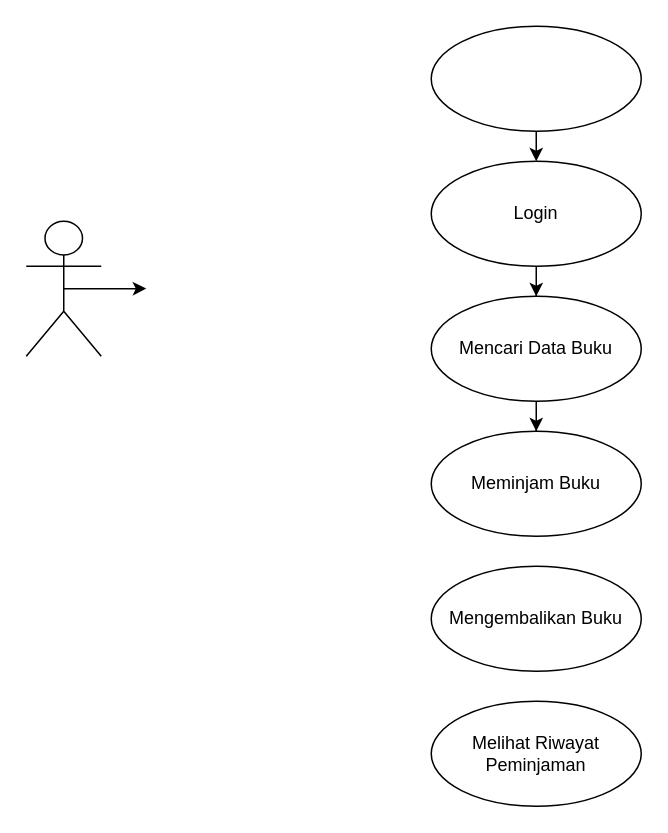
This 668x833 diagram has some shape labels left out. The box of each missing label's shape, as (x1, y1, x2, y2) in pixels:
Anggota: (25, 220, 101, 356)
Mendafatar Akun: (430, 25, 641, 131)
